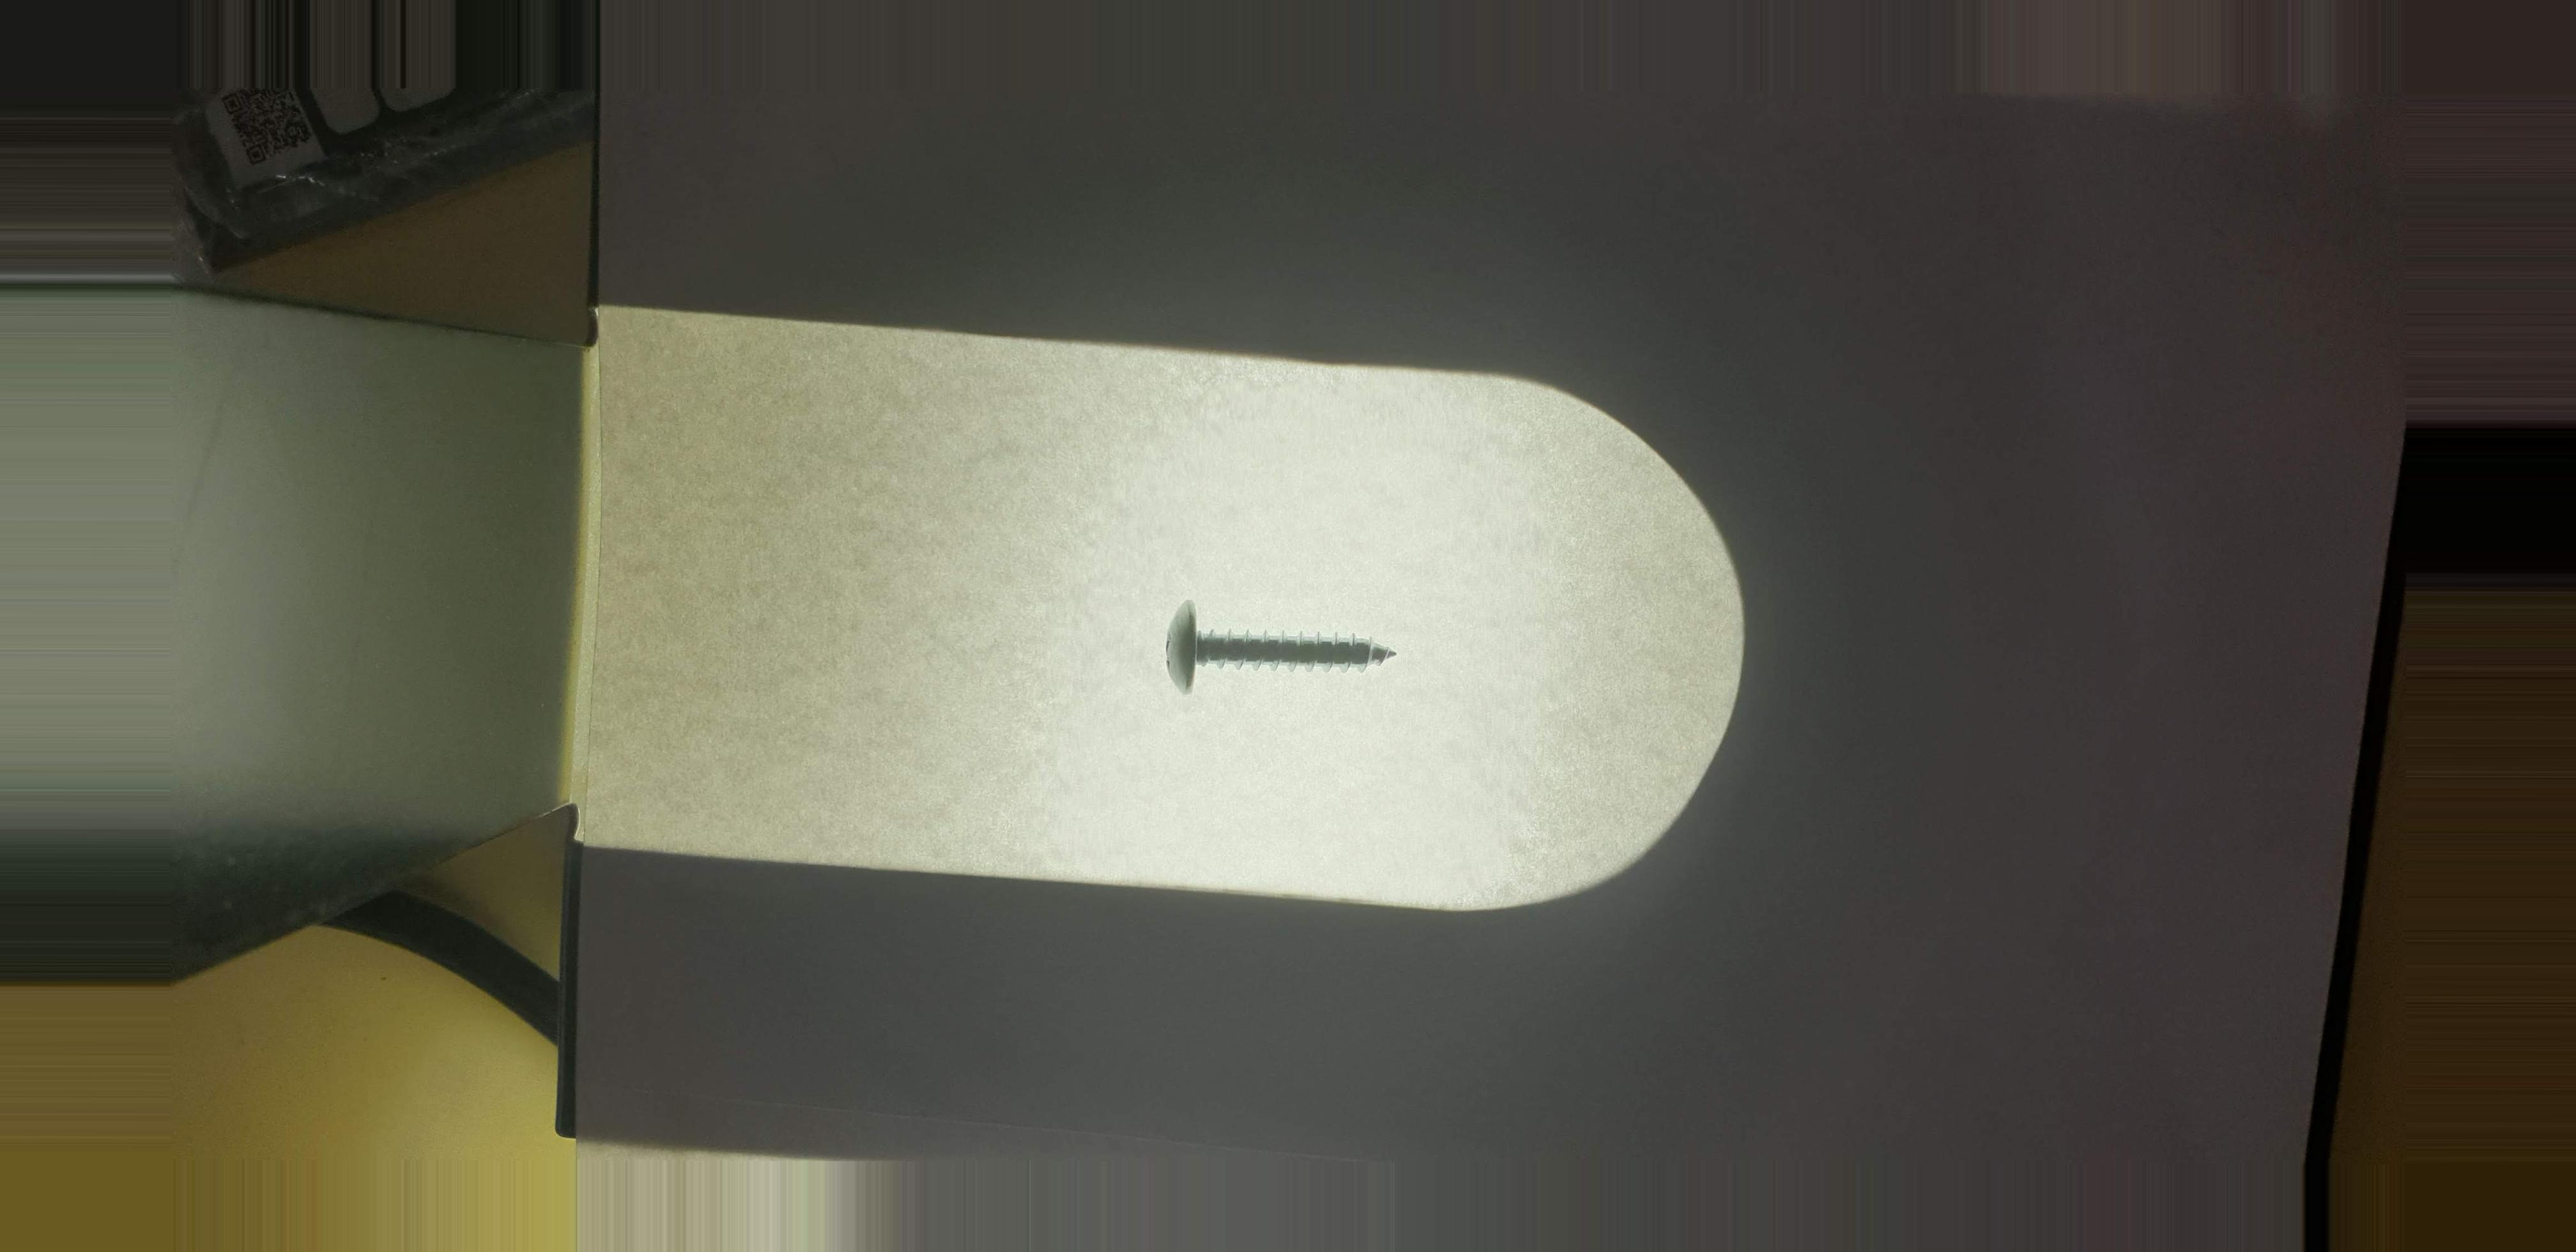S002: (1132, 564, 1439, 731)
